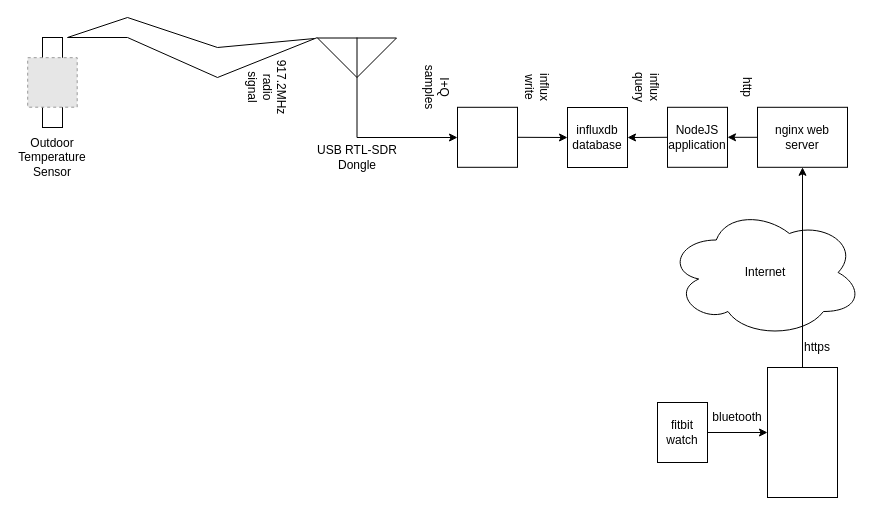
This 880x515 diagram has some shape labels left out. Grey dashed boxes stand in for pictures. The shapes that lost their labels are listed below. From the top down, each one's centre as x and y in pixels, then its label:
At point 487,136: "rtl_433 software".
At point 802,432: "Phone".
